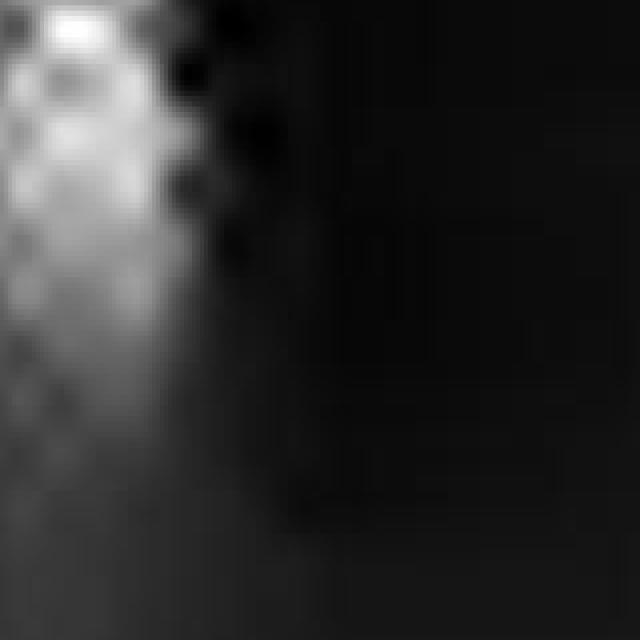person: (1, 1, 221, 460)
